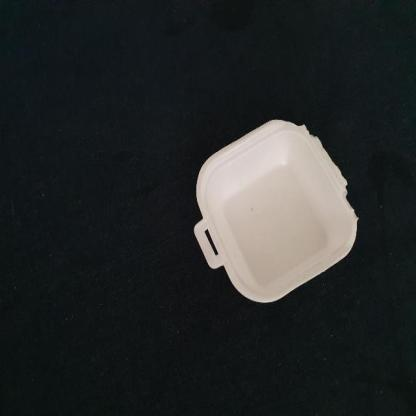Glass Cup: (194, 119, 358, 305), (194, 120, 358, 303)
